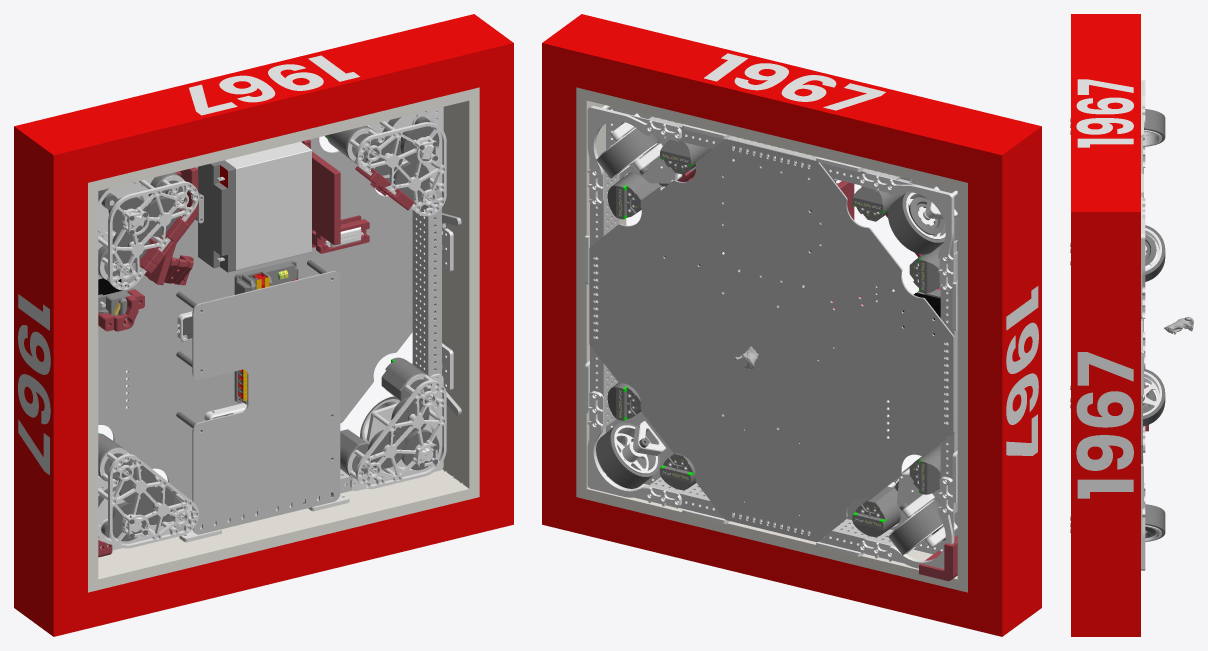
3 renders of one model, left to right at view 1: azimuth 30°, elevation 25°; view 2: azimuth 150°, elevation 25°; view 3: azimuth 270°, elevation 25°, orthographic. The views are drawn at different scales.
Parts seen in each view (by area): view 1: occurrence of 26-103 (×4), Comp_26_baseplate, 26-102P, MK4i Master Part V2_Default Falcon 500 Config (×5), occurrence of 26-102 (×2), occurrence of 26-109, Robot Battery, Part 1 (×5), 26-101A, occurrence of 26-108, WCP-0940 (×4), Simplified PDH (+2 smaller); view 2: occurrence of 26-103 (×4), Comp_26_baseplate, MK4i Master Part V2_Default Falcon 500 Config (×6), WCP-0940 (×8), occurrence of 26-102 (×2), 26-101A (×4), Tread, Black Nitrile 4in X 1.5in (×4), occurrence of 26-109, occurrence of 26-108, Wheel, SDS, Nitrile Tread, 4in X 1.5in, Bearing Bore, Bumper Supports (corner), Wheel Mount A; view 3: occurrence of 26-103 (×3), Tread, Black Nitrile 4in X 1.5in (×4), MK4i Master Part V2_Default Falcon 500 Config (×3), Wheel, SDS, Nitrile Tread, 4in X 1.5in, Bearing Bore (×3), Origin Cat, Comp_26_baseplate, Bevel Gear, 4515.
Part boxes in pixels (x1=…): occurrence of 26-103 (×4): x1=14, y1=14, x2=513, y2=636; Comp_26_baseplate: x1=98, y1=137, x2=412, y2=499; 26-102P: x1=192, y1=271, x2=340, y2=534; MK4i Master Part V2_Default Falcon 500 Config (×5): x1=98, y1=121, x2=446, y2=548; occurrence of 26-102 (×2): x1=88, y1=90, x2=479, y2=589; occurrence of 26-109: x1=442, y1=87, x2=479, y2=488; Robot Battery: x1=198, y1=141, x2=311, y2=272; Part 1 (×5): x1=98, y1=139, x2=414, y2=331; 26-101A: x1=412, y1=187, x2=441, y2=376; occurrence of 26-108: x1=88, y1=191, x2=98, y2=592; WCP-0940 (×4): x1=98, y1=125, x2=431, y2=481; Simplified PDH: x1=234, y1=260, x2=298, y2=404; occurrence of 26-103 (×4): x1=542, y1=14, x2=1041, y2=636; Comp_26_baseplate: x1=589, y1=138, x2=954, y2=542; MK4i Master Part V2_Default Falcon 500 Config (×6): x1=587, y1=105, x2=957, y2=568; WCP-0940 (×8): x1=607, y1=139, x2=940, y2=536; occurrence of 26-102 (×2): x1=576, y1=90, x2=967, y2=589; 26-101A (×4): x1=590, y1=116, x2=957, y2=551; Tread, Black Nitrile 4in X 1.5in (×4): x1=596, y1=128, x2=945, y2=555; occurrence of 26-109: x1=576, y1=87, x2=626, y2=488; occurrence of 26-108: x1=957, y1=191, x2=967, y2=592; Wheel, SDS, Nitrile Tread, 4in X 1.5in, Bearing Bore: x1=613, y1=425, x2=657, y2=473; Bumper Supports (corner): x1=919, y1=535, x2=957, y2=581; Wheel Mount A: x1=633, y1=421, x2=666, y2=455; occurrence of 26-103 (×3): x1=1071, y1=14, x2=1140, y2=636; Tread, Black Nitrile 4in X 1.5in (×4): x1=1143, y1=109, x2=1165, y2=541; MK4i Master Part V2_Default Falcon 500 Config (×3): x1=1141, y1=80, x2=1145, y2=570; Wheel, SDS, Nitrile Tread, 4in X 1.5in, Bearing Bore (×3): x1=1143, y1=130, x2=1161, y2=415; Origin Cat: x1=1164, y1=316, x2=1193, y2=334; Comp_26_baseplate: x1=1141, y1=138, x2=1142, y2=464; Bevel Gear, 4515: x1=1145, y1=234, x2=1156, y2=265.
Bounding box in the file's own units: 0.8506 × 0.8506 × 0.2238.
